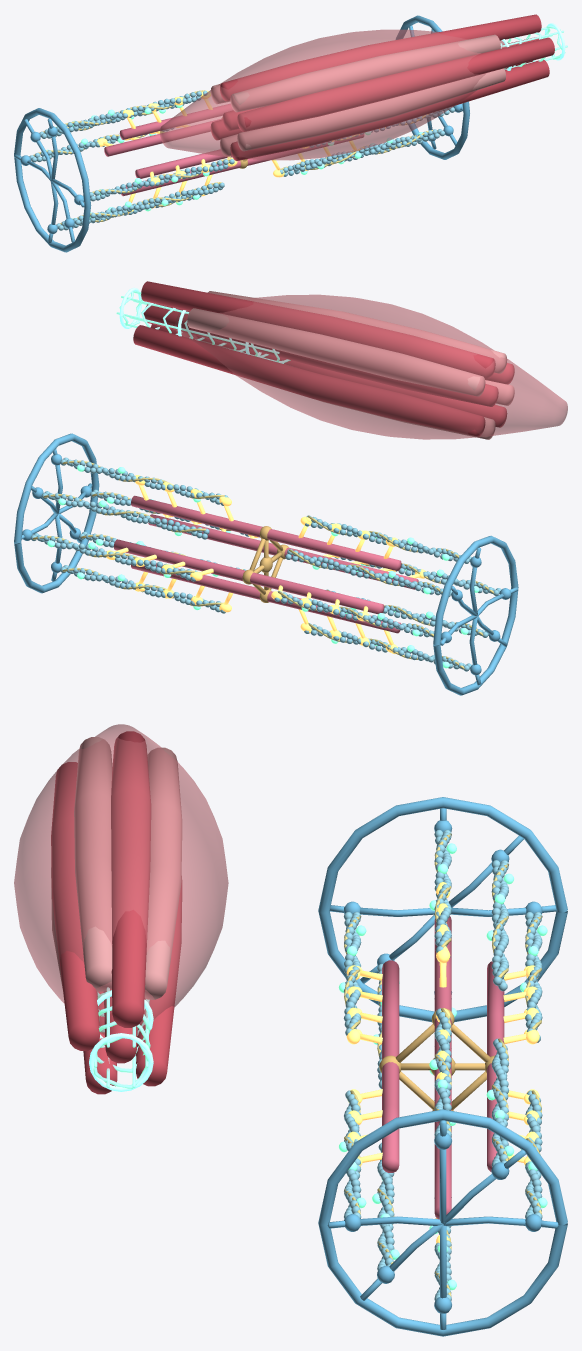
File: muscle_sarcomere.glb
3 views of the same model, one above another, from view 1: azimuth 30°, elevation 25°; view 2: azimuth 150°, elevation 25°; view 3: azimuth 270°, elevation 25° (orthographic). The views are drawn at different scales.
Visible parts, largest first — view 1: Muscle_Belly_Epimysium, Fascicles_TypeI_Oxidative, Fascicles_TypeII_Glycolytic, Actin_Filaments_Left, Myosin_Backbone, Z_Disc_Left, Actin_Filaments_Right, Z_Disc_Right, Tropomyosin_Strands_Left, Troponin_Complexes_Left, Sarcoplasmic_Reticulum, Tropomyosin_Strands_Right; view 2: Muscle_Belly_Epimysium, Fascicles_TypeI_Oxidative, Fascicles_TypeII_Glycolytic, Myosin_Backbone, Actin_Filaments_Left, Actin_Filaments_Right, Z_Disc_Left, Z_Disc_Right, Sarcoplasmic_Reticulum, M_Line, Tropomyosin_Strands_Left, Tropomyosin_Strands_Right (+2 smaller); view 3: Muscle_Belly_Epimysium, Fascicles_TypeI_Oxidative, Fascicles_TypeII_Glycolytic, Z_Disc_Right, Z_Disc_Left, Myosin_Backbone, Actin_Filaments_Right, Actin_Filaments_Left, M_Line, Sarcoplasmic_Reticulum, T_Tubules, Tropomyosin_Strands_Left (+3 smaller).
Part boxes in pixels (bbox=[...]): Muscle_Belly_Epimysium: bbox=[160, 29, 510, 160]; Fascicles_TypeI_Oxidative: bbox=[210, 14, 554, 160]; Fascicles_TypeII_Glycolytic: bbox=[210, 34, 506, 156]; Actin_Filaments_Left: bbox=[29, 90, 234, 230]; Myosin_Backbone: bbox=[104, 104, 363, 196]; Z_Disc_Left: bbox=[14, 108, 91, 252]; Actin_Filaments_Right: bbox=[280, 107, 454, 176]; Z_Disc_Right: bbox=[396, 15, 469, 159]; Tropomyosin_Strands_Left: bbox=[33, 90, 231, 224]; Troponin_Complexes_Left: bbox=[46, 104, 209, 218]; Sarcoplasmic_Reticulum: bbox=[500, 26, 567, 69]; Tropomyosin_Strands_Right: bbox=[280, 114, 437, 169]; Muscle_Belly_Epimysium: bbox=[175, 294, 567, 439]; Fascicles_TypeI_Oxidative: bbox=[133, 281, 514, 436]; Fascicles_TypeII_Glycolytic: bbox=[187, 291, 514, 439]; Myosin_Backbone: bbox=[113, 495, 418, 633]; Actin_Filaments_Left: bbox=[274, 515, 501, 671]; Actin_Filaments_Right: bbox=[30, 457, 248, 613]; Z_Disc_Left: bbox=[433, 535, 518, 695]; Z_Disc_Right: bbox=[14, 433, 99, 593]; Sarcoplasmic_Reticulum: bbox=[116, 291, 290, 363]; M_Line: bbox=[242, 526, 288, 602]; Tropomyosin_Strands_Left: bbox=[278, 515, 494, 669]; Tropomyosin_Strands_Right: bbox=[33, 460, 243, 606]; Muscle_Belly_Epimysium: bbox=[14, 724, 228, 1035]; Fascicles_TypeI_Oxidative: bbox=[51, 731, 182, 1094]; Fascicles_TypeII_Glycolytic: bbox=[51, 737, 182, 1055]; Z_Disc_Right: bbox=[318, 1109, 567, 1336]; Z_Disc_Left: bbox=[318, 797, 567, 1022]; Myosin_Backbone: bbox=[382, 916, 504, 1219]; Actin_Filaments_Right: bbox=[344, 1008, 542, 1300]; Actin_Filaments_Left: bbox=[343, 829, 542, 1100]; M_Line: bbox=[379, 1008, 494, 1111]; Sarcoplasmic_Reticulum: bbox=[93, 987, 150, 1088]; T_Tubules: bbox=[89, 991, 153, 1091]; Tropomyosin_Strands_Left: bbox=[344, 833, 542, 1056].
Size of the model in its own units: 3.41 by 1.78 by 2.32.
